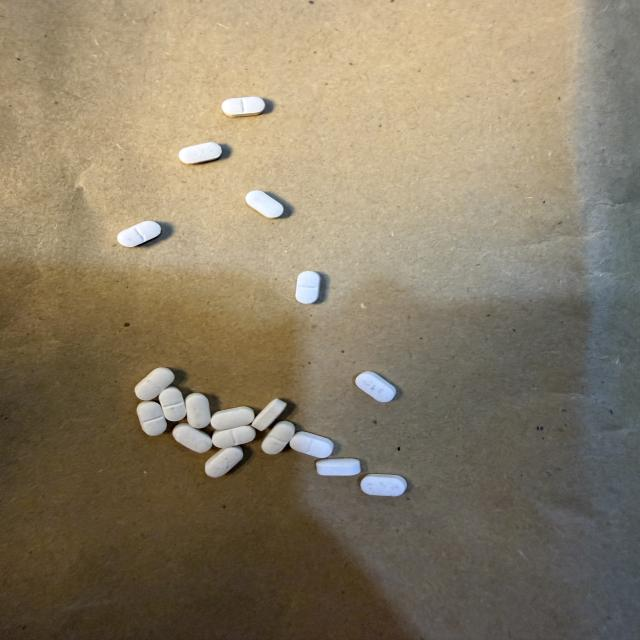pill: (135, 368, 174, 400), (355, 372, 396, 402), (205, 446, 243, 477), (117, 221, 161, 247), (173, 423, 211, 453), (262, 421, 295, 454), (290, 432, 333, 457), (252, 399, 286, 430), (246, 191, 283, 218), (361, 474, 406, 496), (211, 407, 254, 430), (137, 402, 166, 436), (212, 426, 255, 448), (179, 142, 221, 164), (159, 387, 186, 421), (185, 393, 211, 428), (315, 458, 361, 476), (222, 97, 265, 116), (296, 271, 320, 303)
